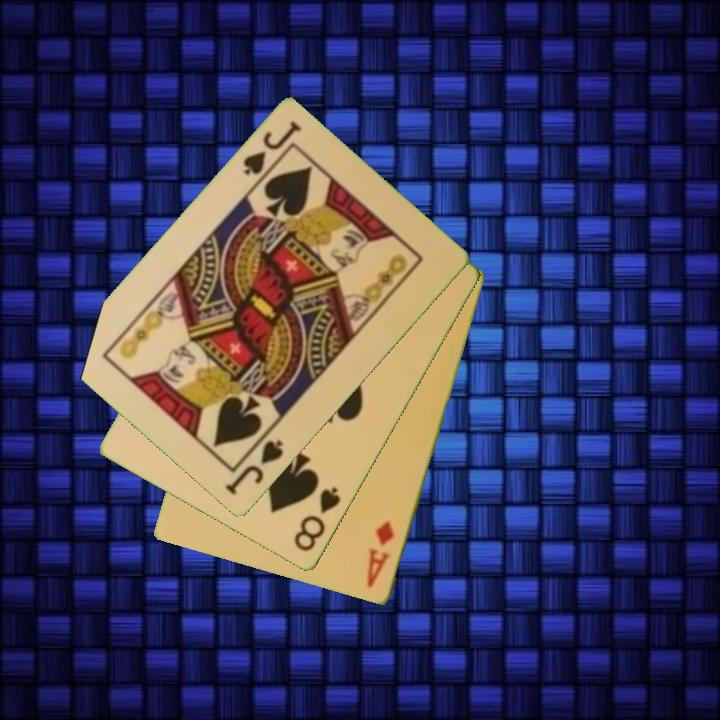8s: (290, 484, 344, 555)
Ad: (363, 517, 398, 591)
Js: (239, 118, 305, 188), (221, 436, 287, 498)
